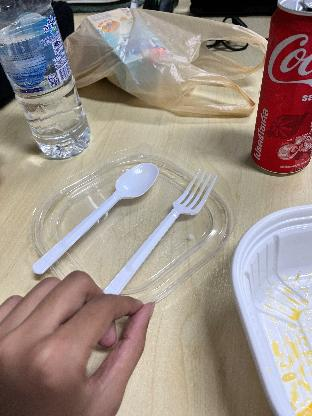Others: (99, 166, 219, 306), (31, 160, 167, 276)
Plastic Bottle: (0, 0, 94, 158)
